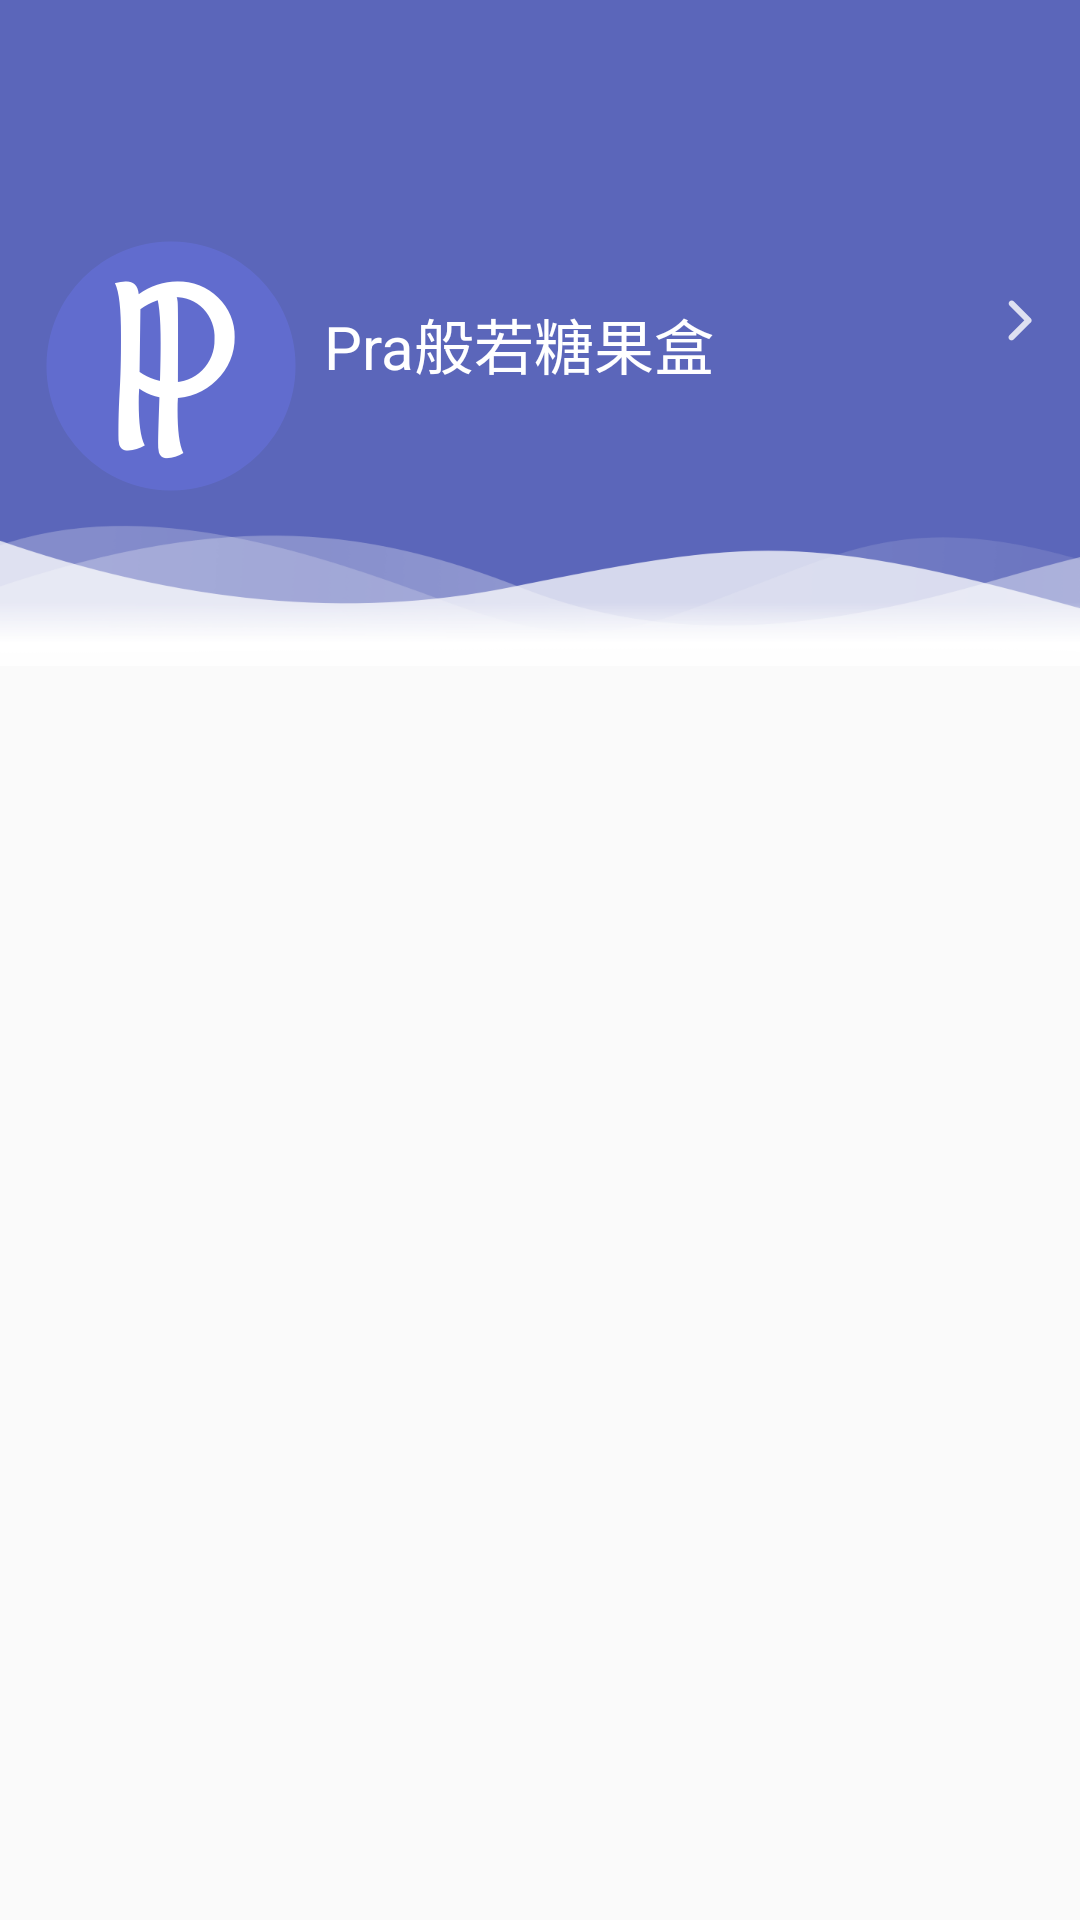

Icon click points for this 1080×1920 phone screenshot, format (x,y):
aboutme: (171,366)
setting frag enter: (1020,320)
